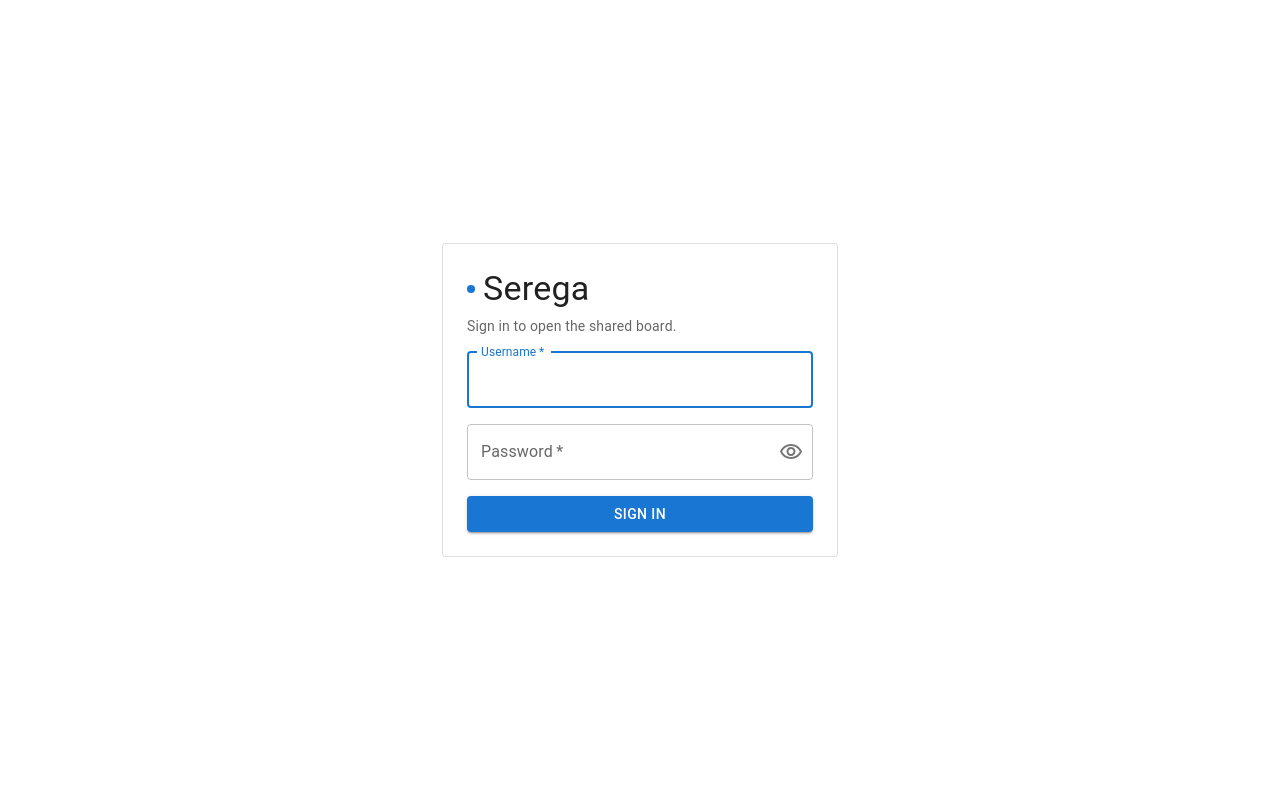
Test case: responsive shell and login › logs in and loads the current user before entering the board
Type "alex" into the field labelled "Username *". click: (640, 380)
box: [467, 352, 813, 408]
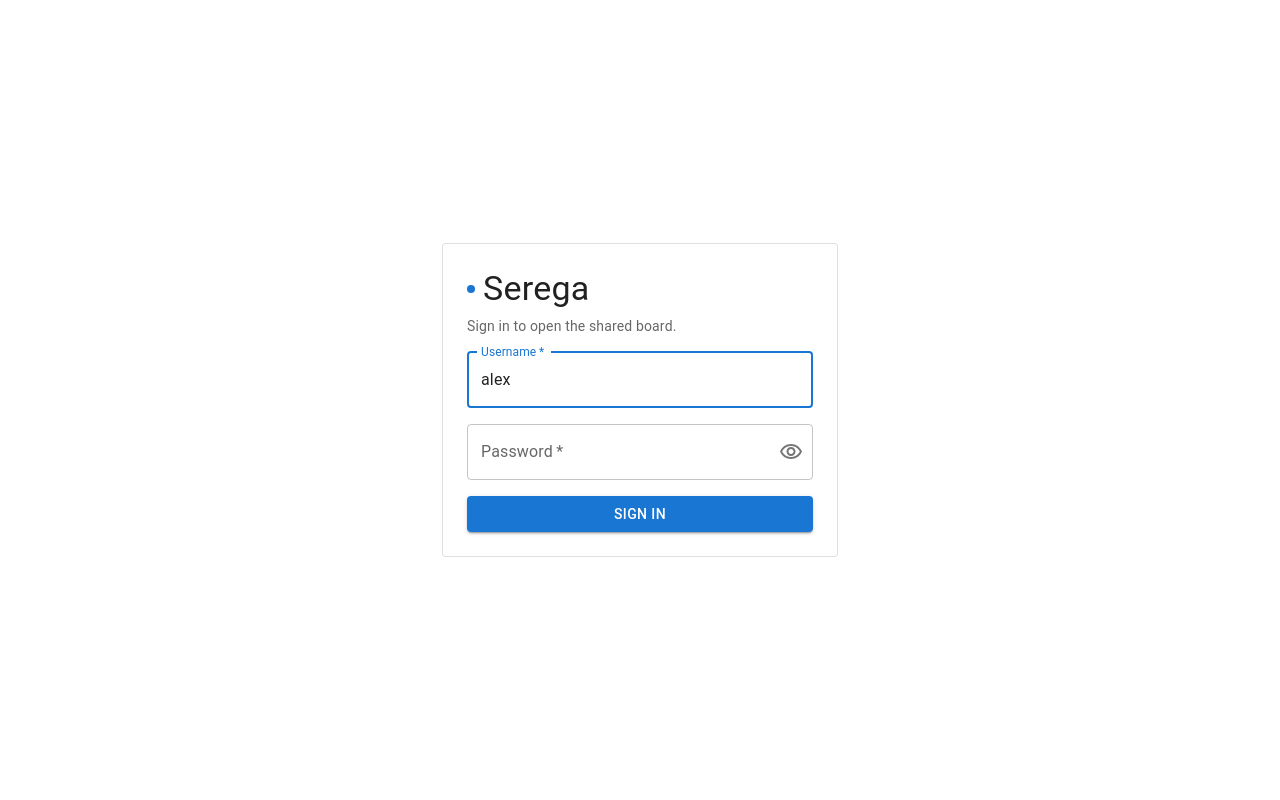
Type "test-password" into the password field labelled "Password *". click: (615, 452)
box: [467, 424, 763, 480]
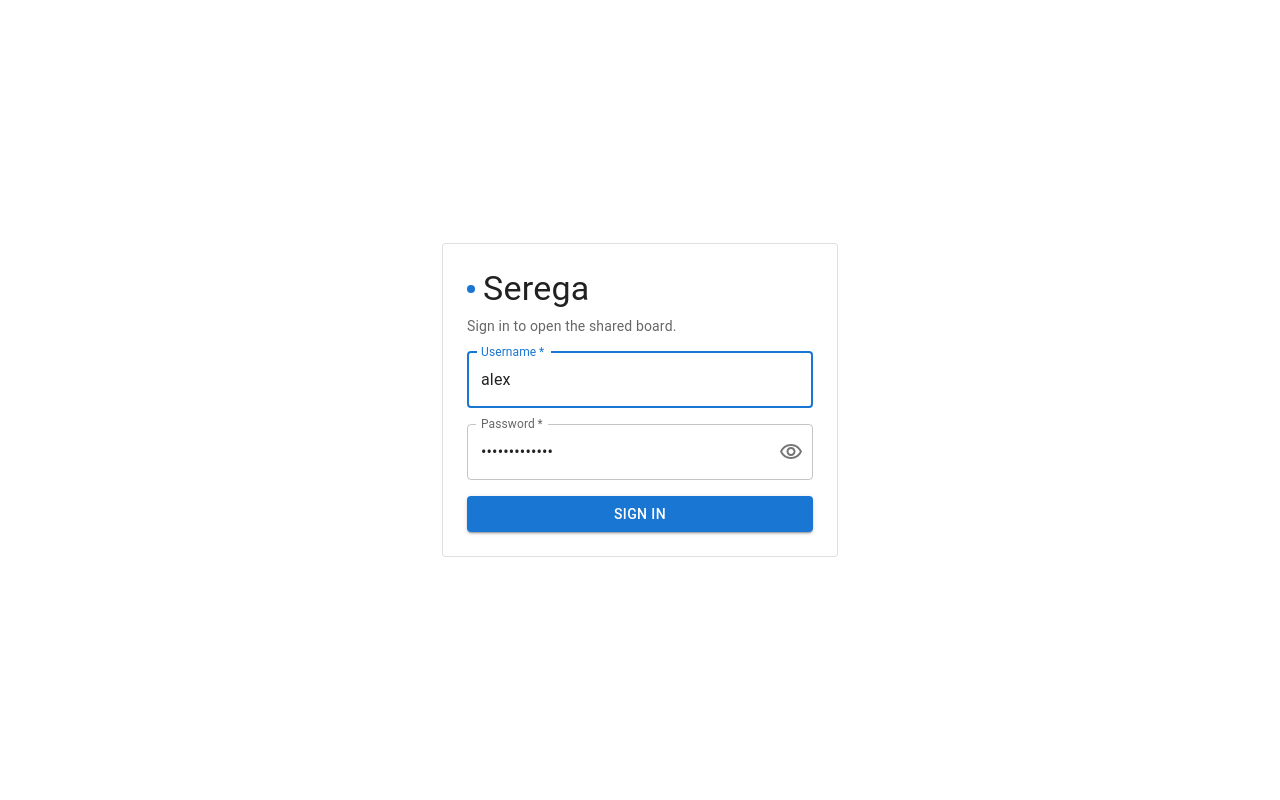
Click the button "Sign in". click: (640, 514)
box: [467, 496, 813, 532]
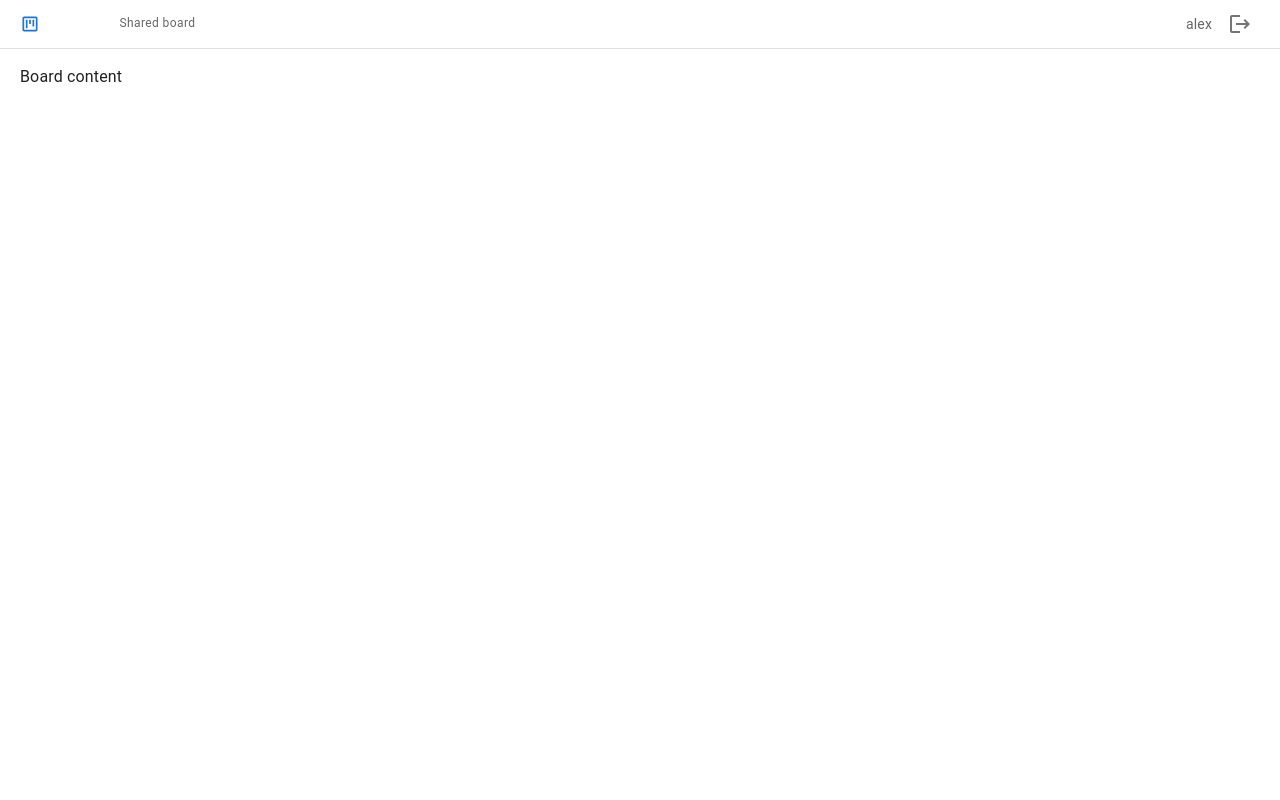
Expected: the text "Board content" is shown, [20, 67, 122, 86]
